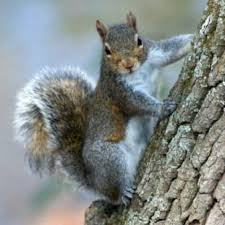Ardilla: (77, 7, 188, 144)
